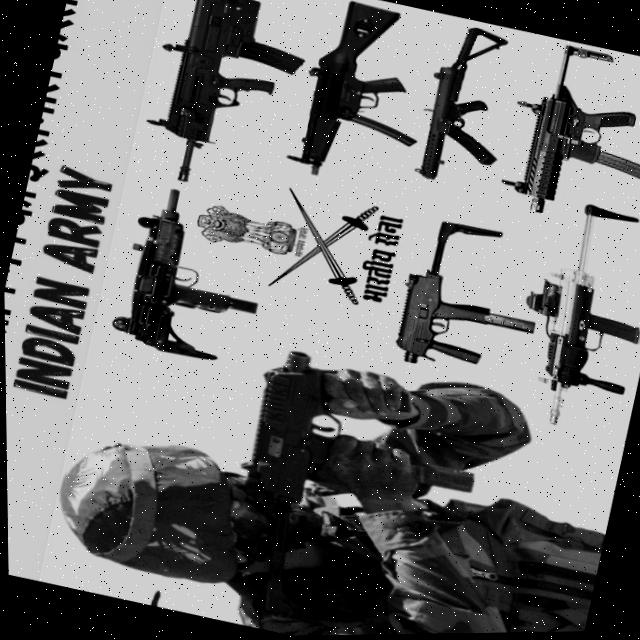firearm: (202, 341, 494, 638), (131, 0, 317, 203), (494, 194, 640, 443), (103, 180, 278, 371), (279, 0, 444, 197), (381, 212, 554, 390), (491, 38, 640, 243), (406, 20, 525, 194)
